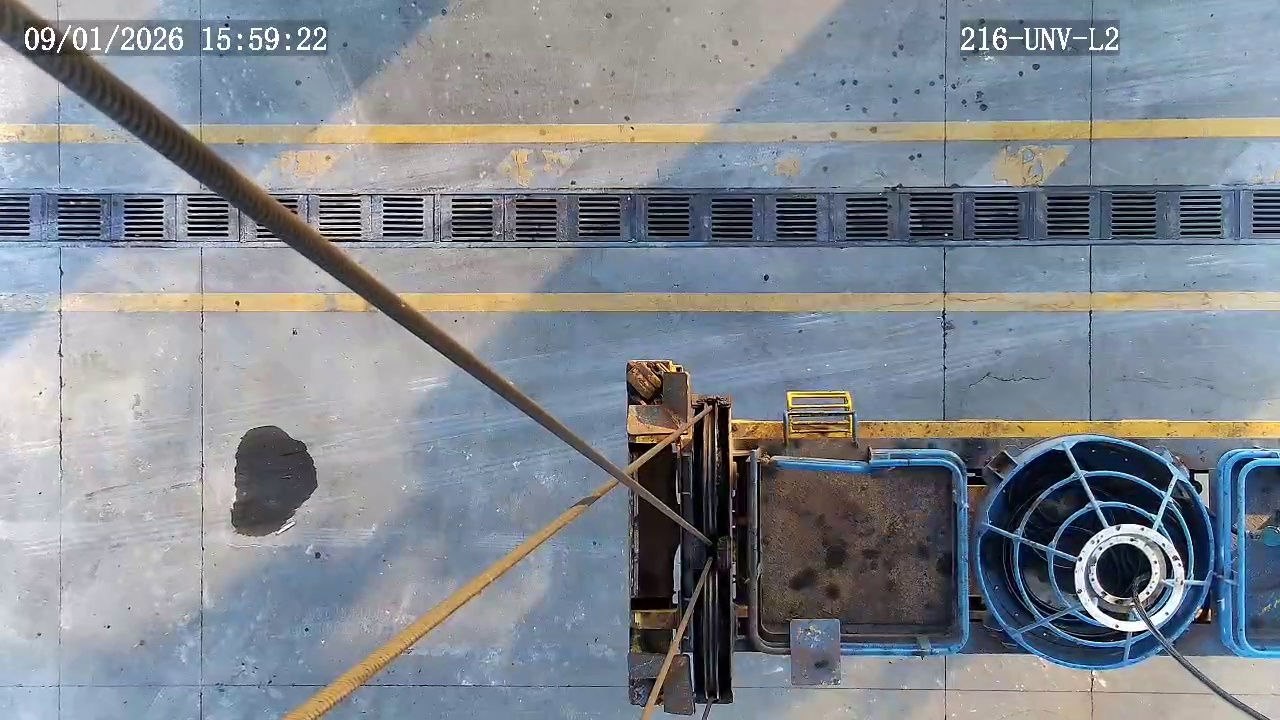left: (1075, 525, 1186, 632)
